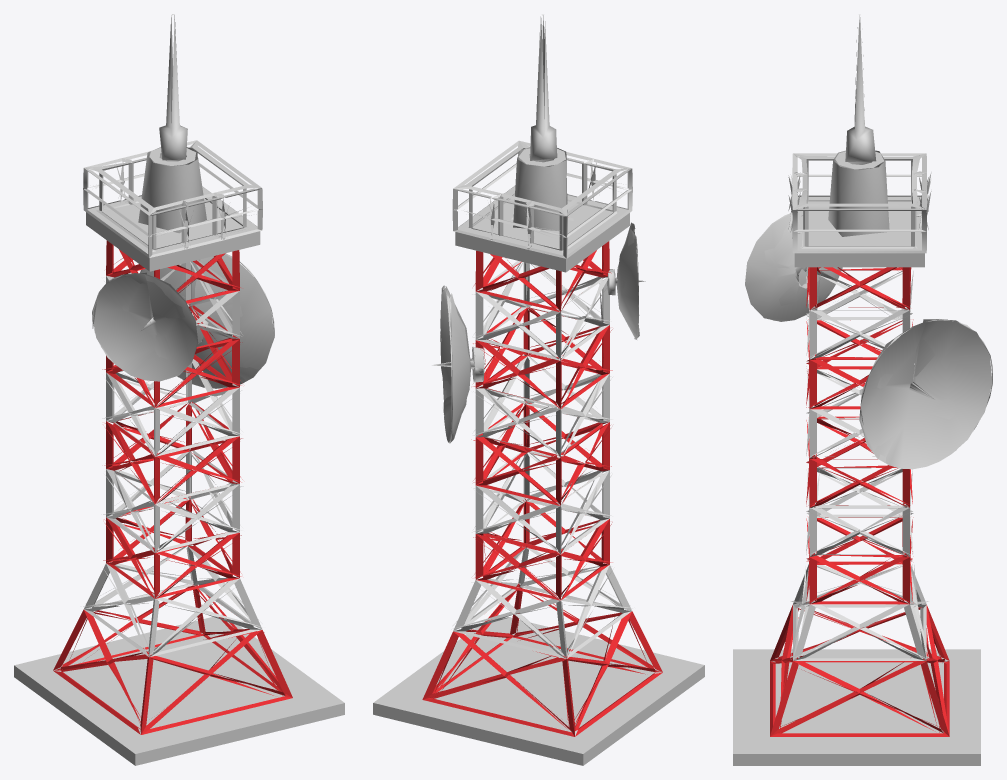
Rendered from Communication.glb.
3 views of the same model, side by side, from view 1: azimuth 30°, elevation 25°; view 2: azimuth 150°, elevation 25°; view 3: azimuth 270°, elevation 25° (orthographic). The views are drawn at different scales.
Visible parts, largest first — view 1: COmunitation; view 2: COmunitation; view 3: COmunitation.
Boxes of the visible parts, x1,y1,x2,y2 form: COmunitation: (14, 14, 344, 765); COmunitation: (373, 14, 704, 765); COmunitation: (733, 14, 992, 765).
Bounding box in the file's own units: 157 × 488 × 165.
